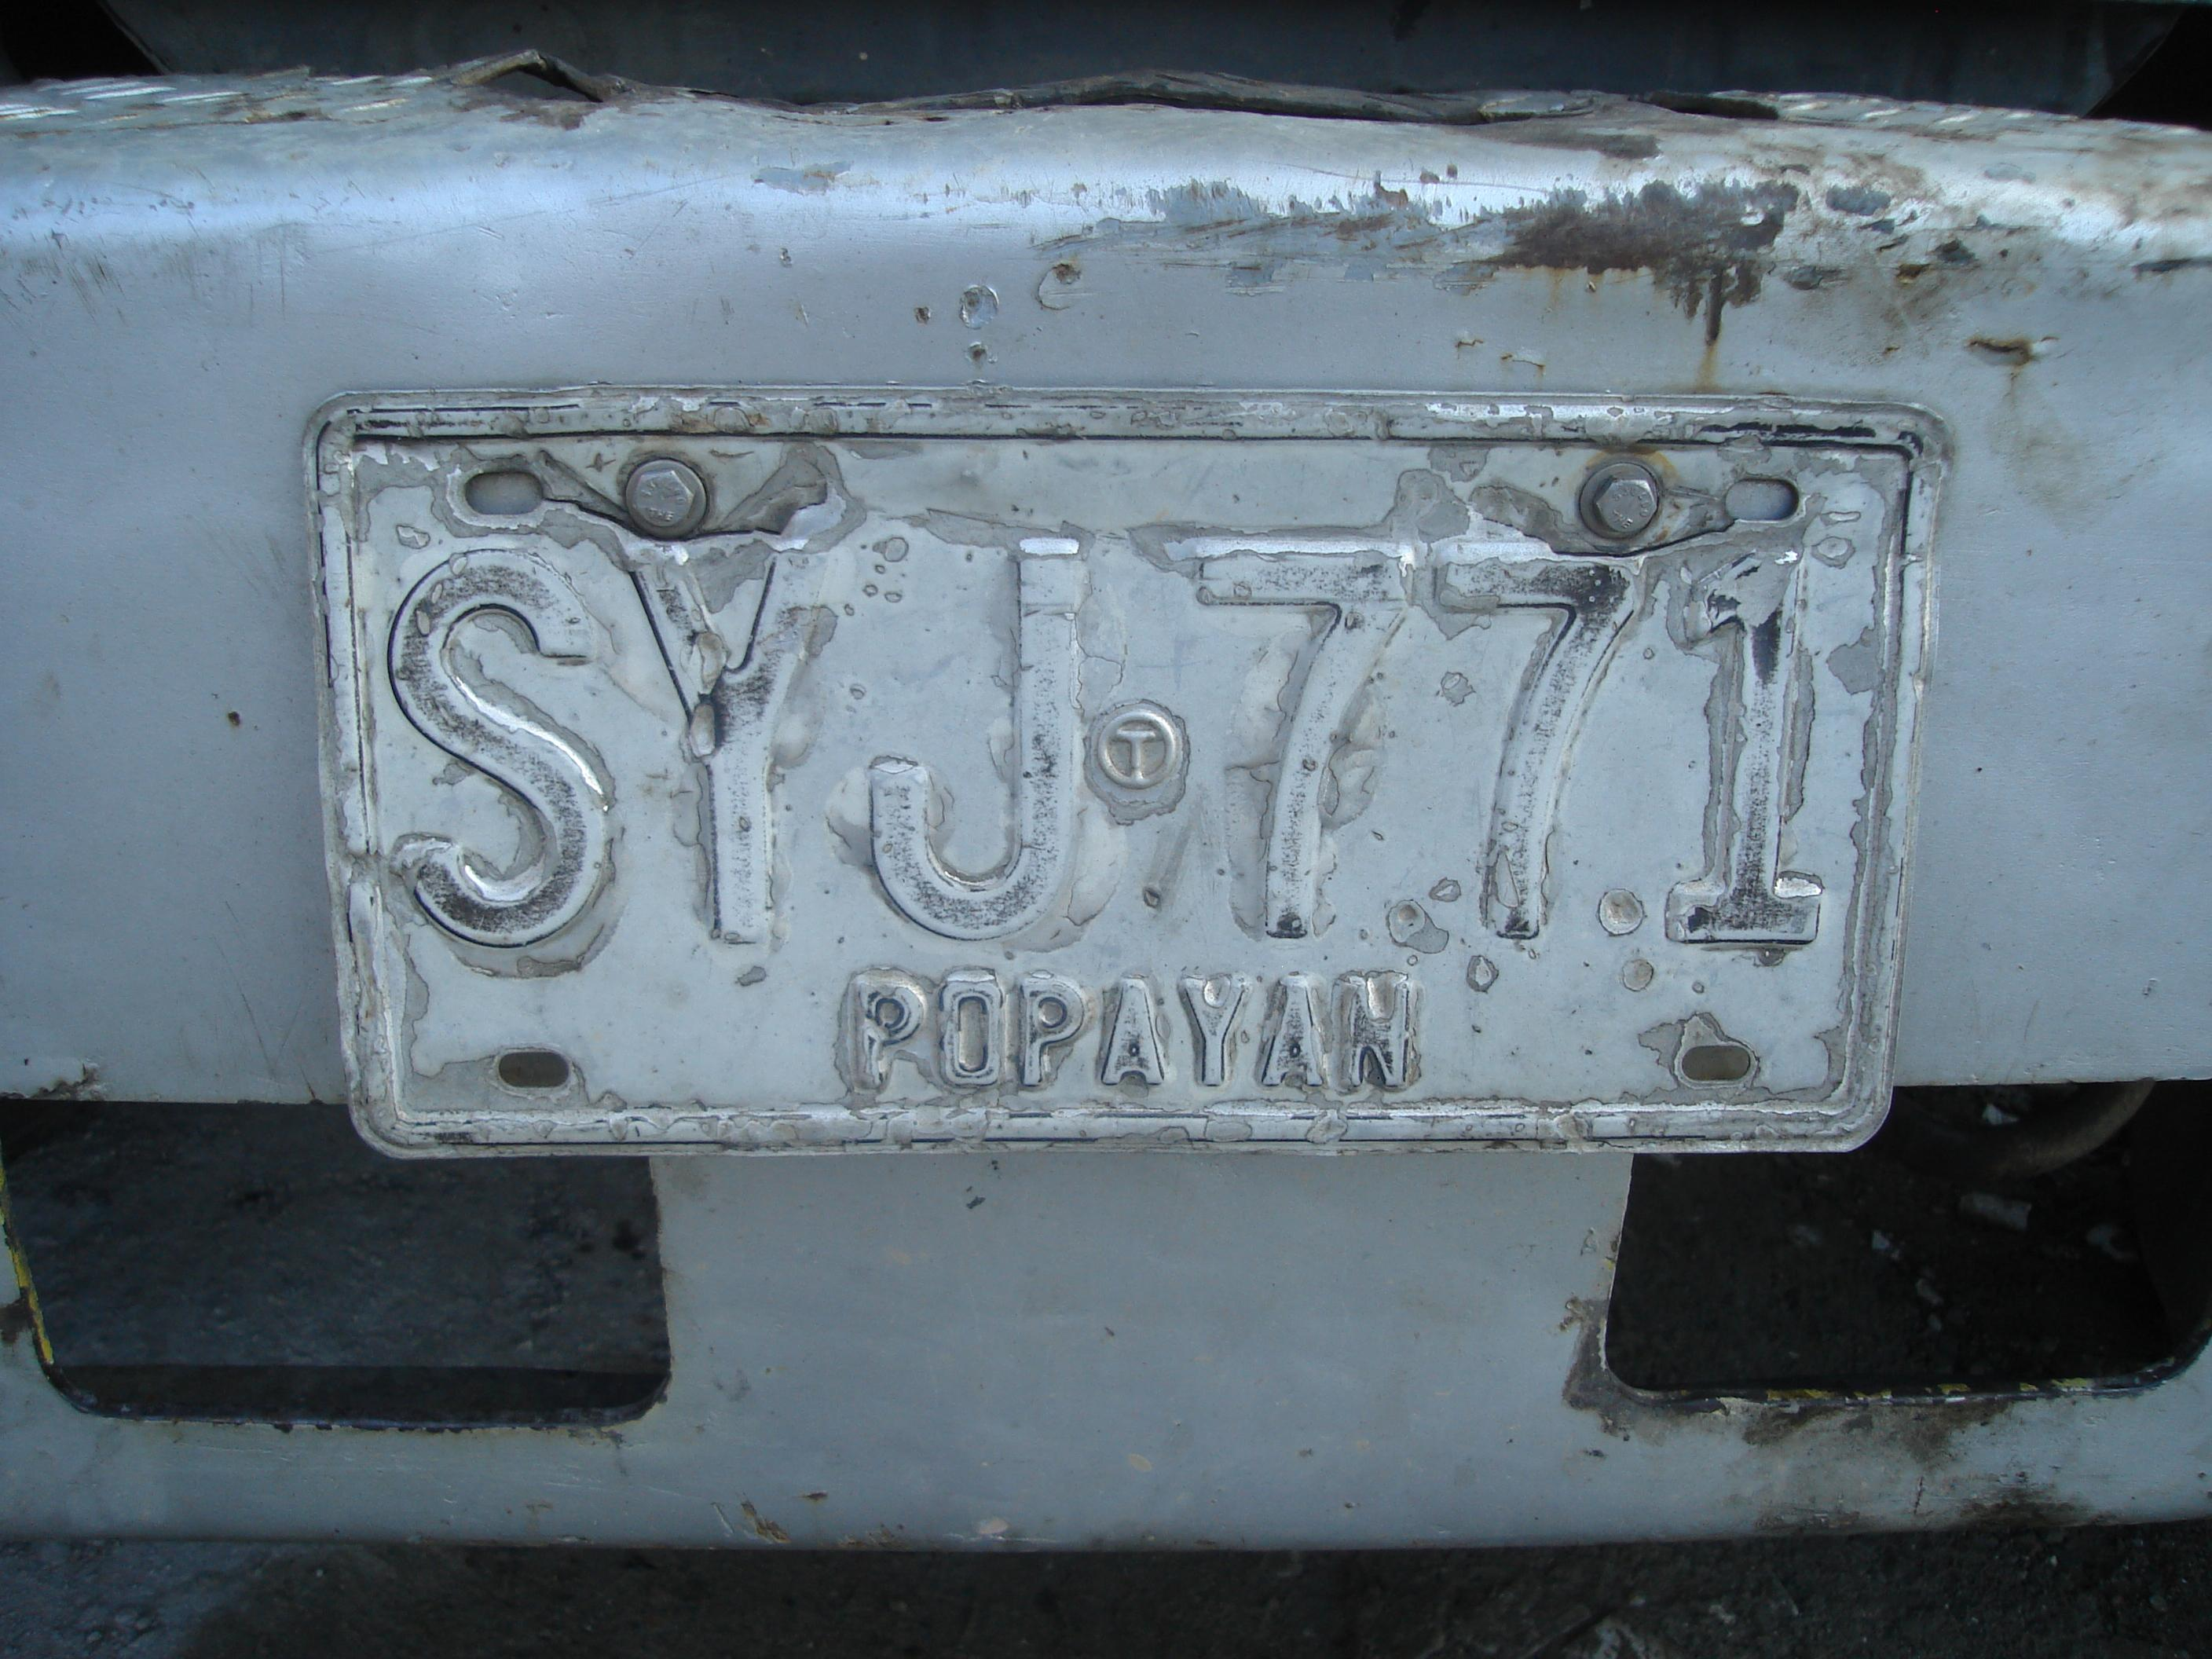placas: (287, 359, 1957, 1165)
